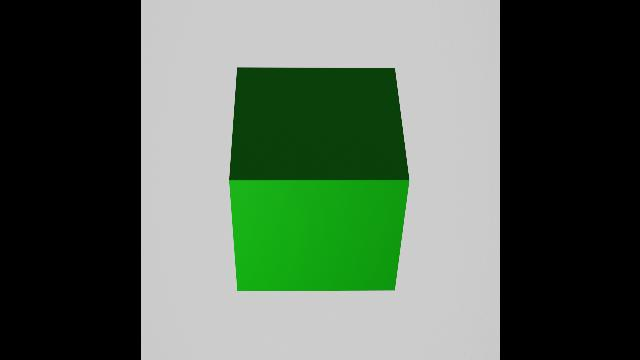Cube: (220, 60, 414, 304)
